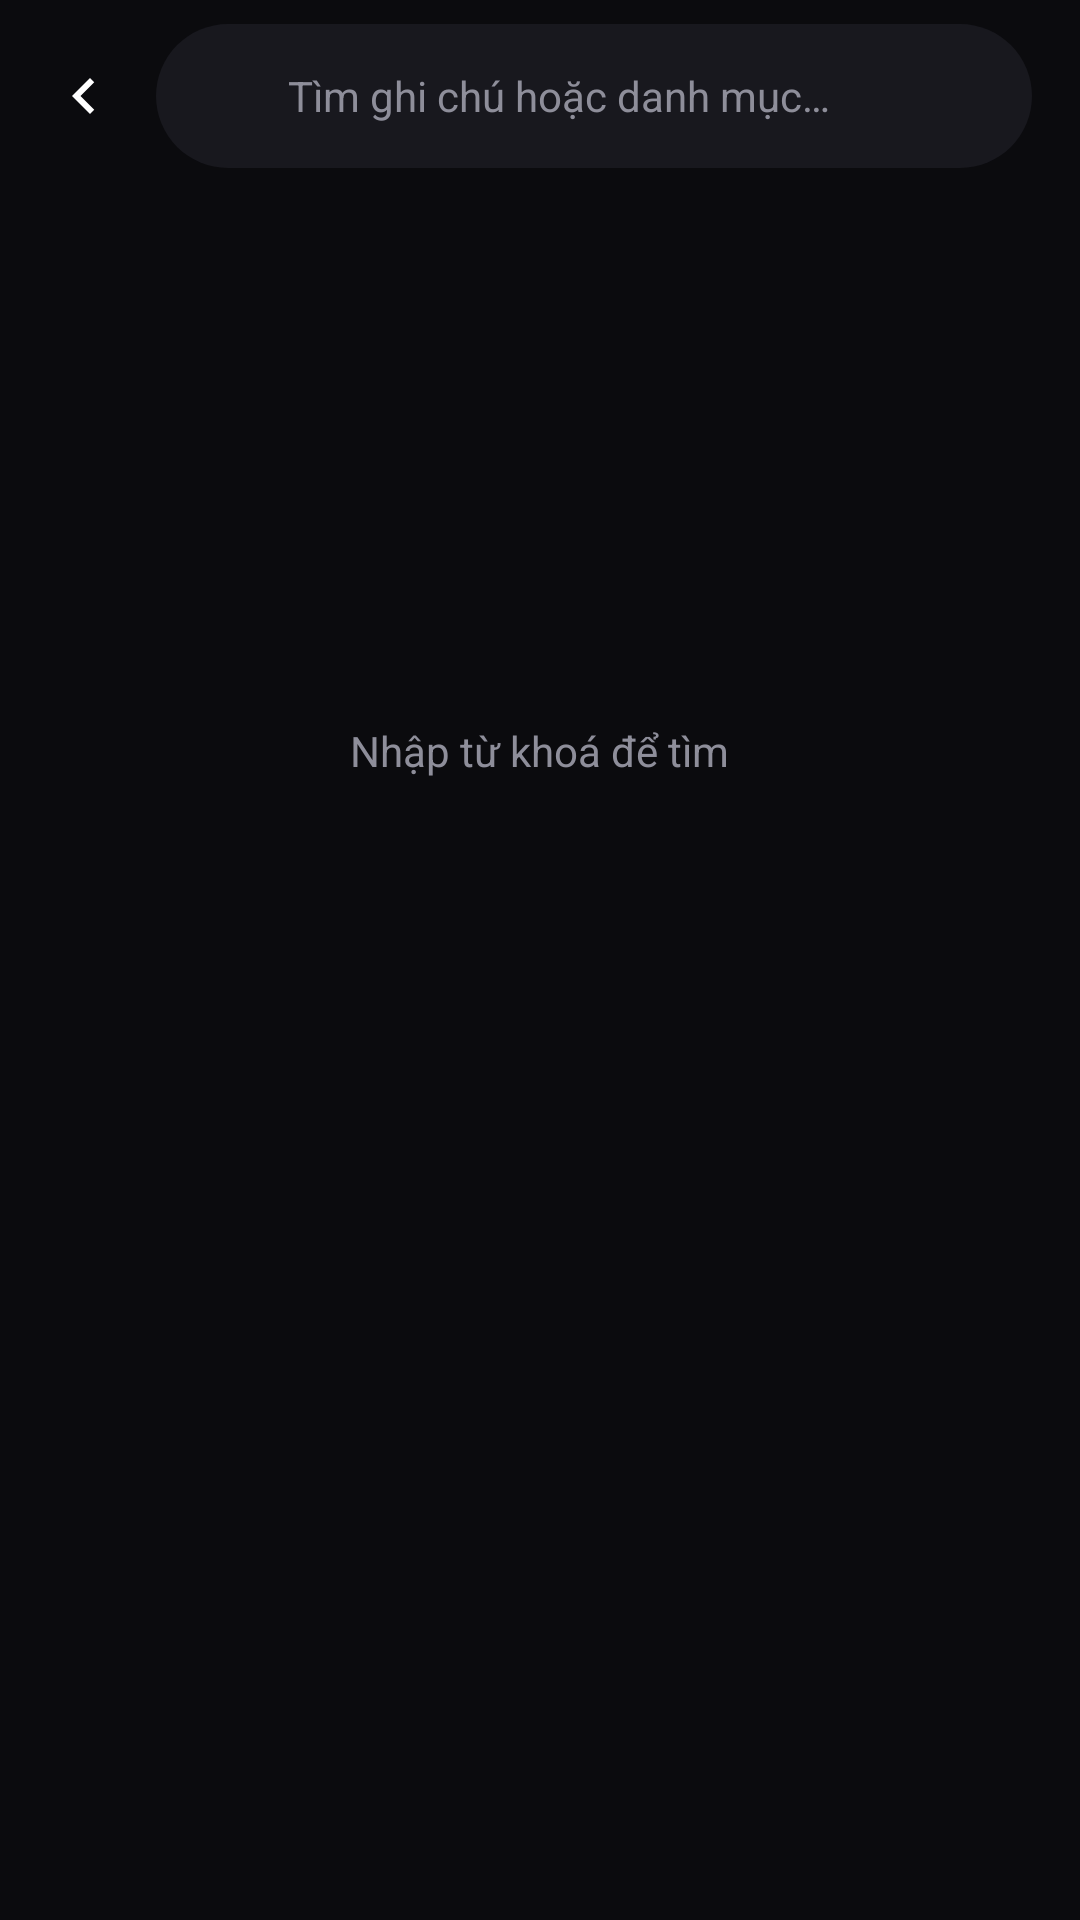

Named icons in this screenshot (1080×1920) and their bounding boxes, (x1, y1, x2, y2):
Quay lại: (72, 78, 94, 114)
